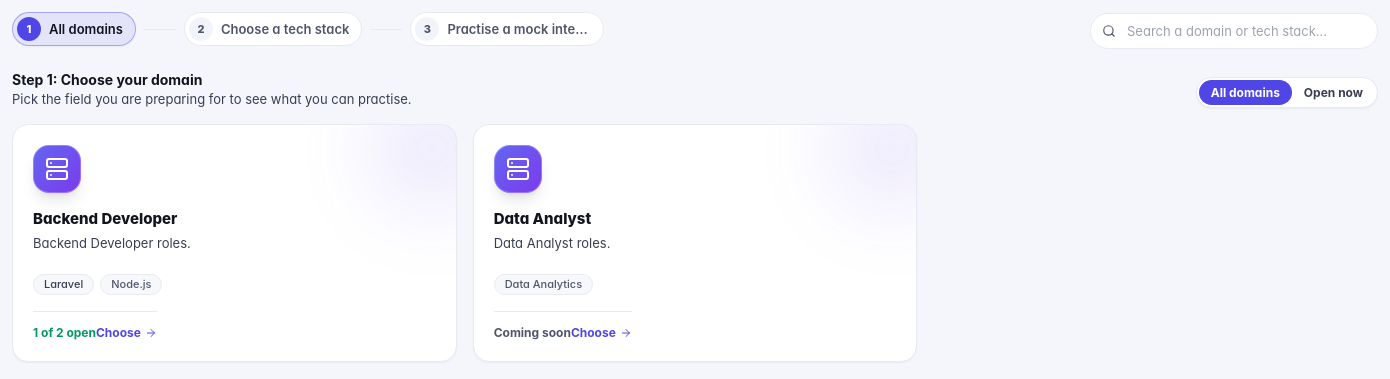
Test: <MockInterviewExplorer> › 'Open now' hides domains with nothing open
The width and height of the screenshot is (1390, 379).
Click the button "Open now" at (1333, 92), box [1292, 80, 1375, 105]
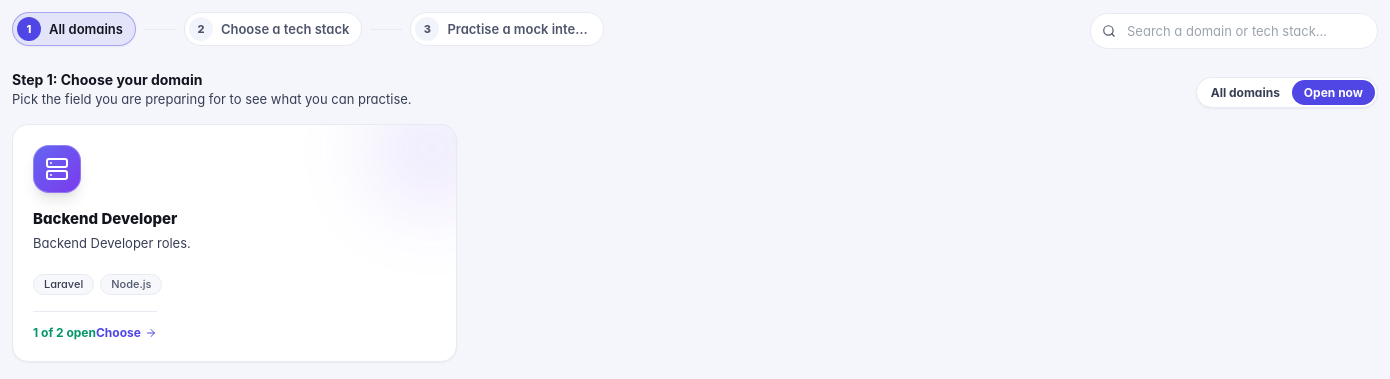
Expected: the button "Backend Developer" is shown, [12, 124, 457, 362]
Result: the button "Data Analyst" is gone
